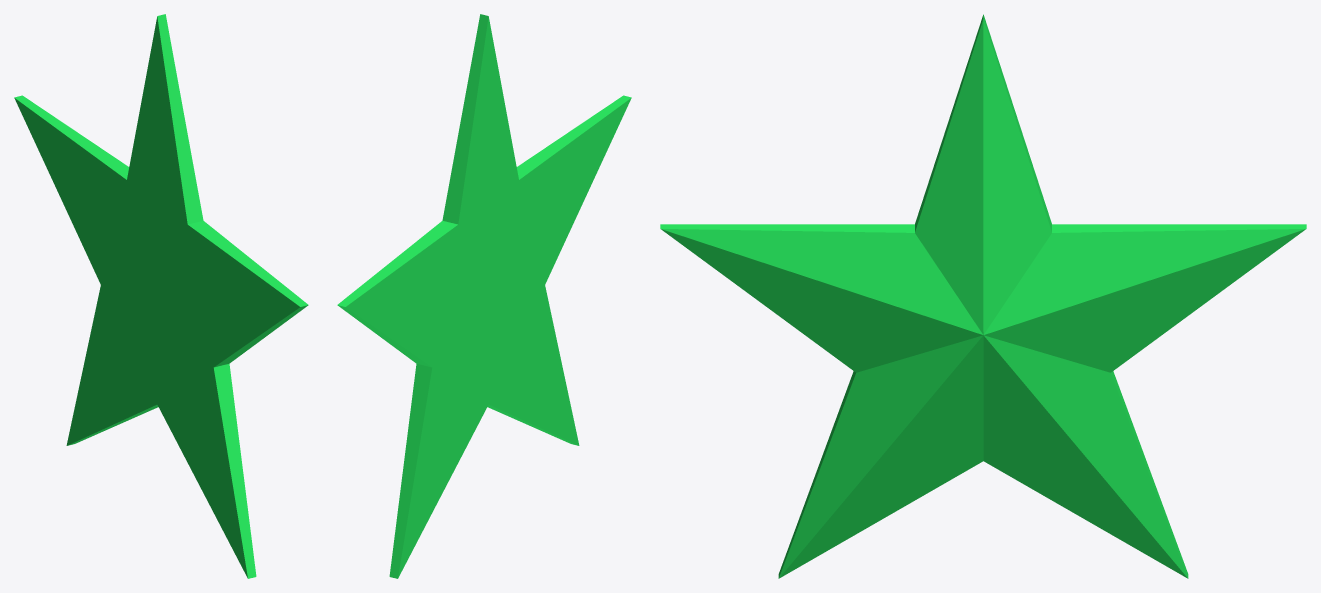
Rendered from Green Star.glb.
3 views of the same model, side by side, from view 1: azimuth 30°, elevation 25°; view 2: azimuth 150°, elevation 25°; view 3: azimuth 270°, elevation 25° (orthographic). The views are drawn at different scales.
Visible parts, largest first — view 1: Star.002; view 2: Star.002; view 3: Star.002.
Part boxes in pixels (x1,y1,x2,y2): Star.002: (14,14,308,578); Star.002: (337,14,631,578); Star.002: (660,14,1306,578).
Bounding box in the file's own units: 0.3469 × 3.86 × 4.03.
Materials: 1 (1 with a texture image).
